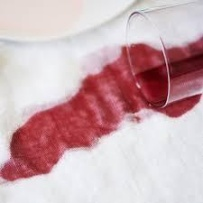wine: (32, 97, 101, 149), (84, 62, 137, 116), (5, 119, 47, 170)
